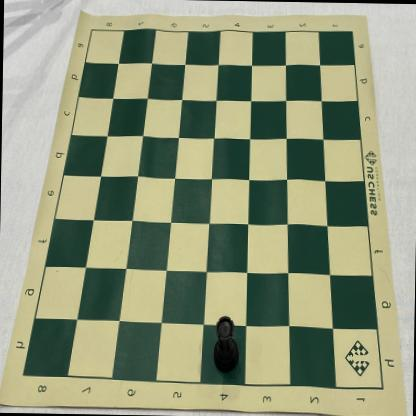black-rook: (211, 315, 240, 373)
